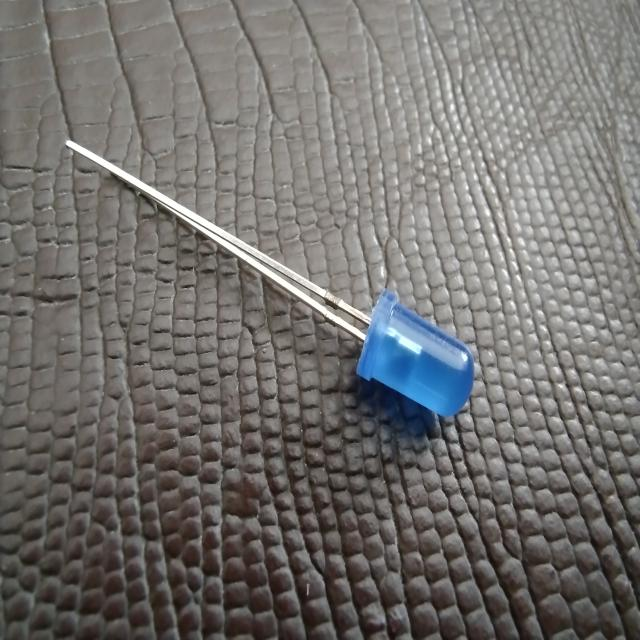blue_led: (355, 288, 475, 418)
